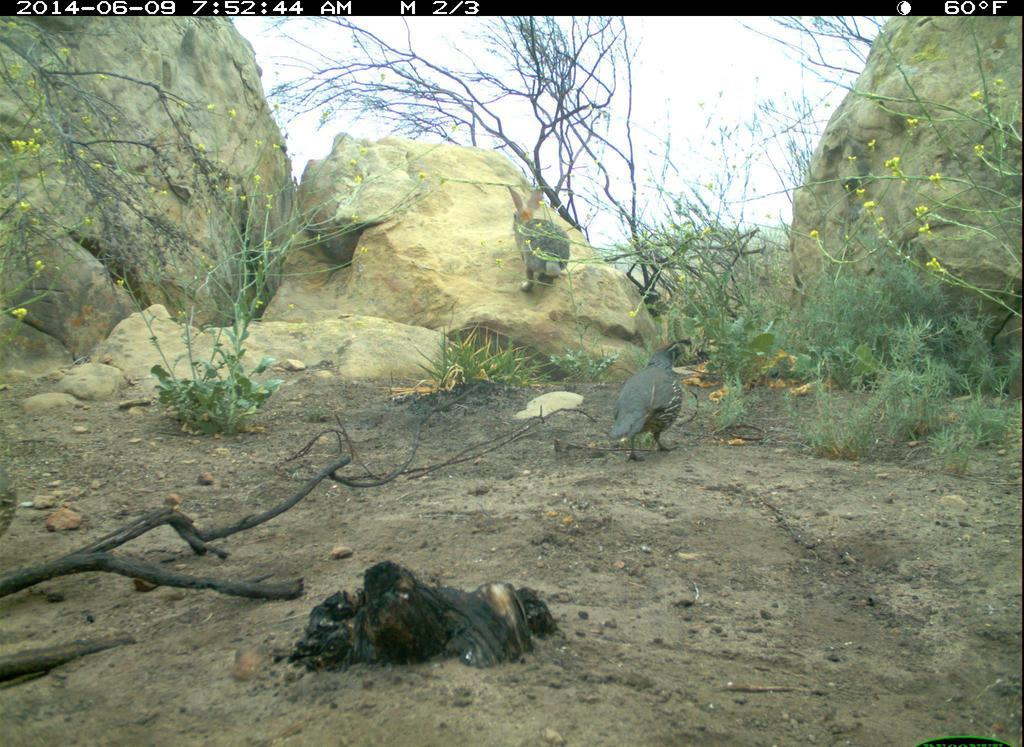bird: (606, 334, 700, 467)
rabbit: (504, 180, 575, 298)
